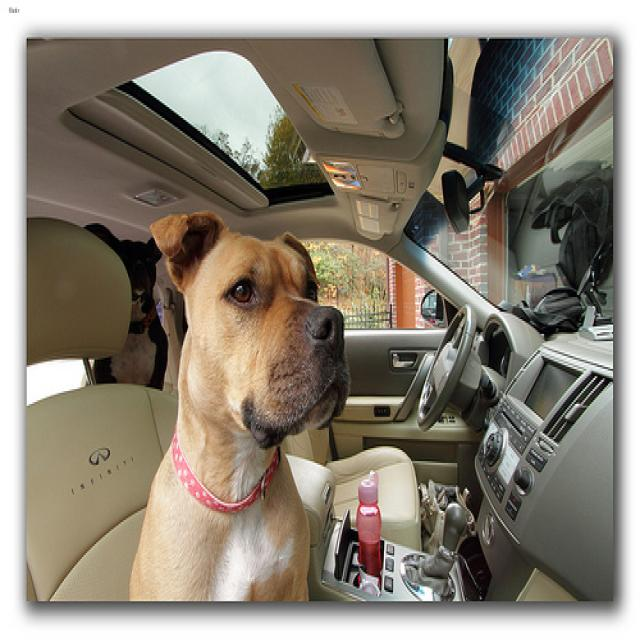dog-american_pit_bull_terrier: (119, 205, 353, 612)
